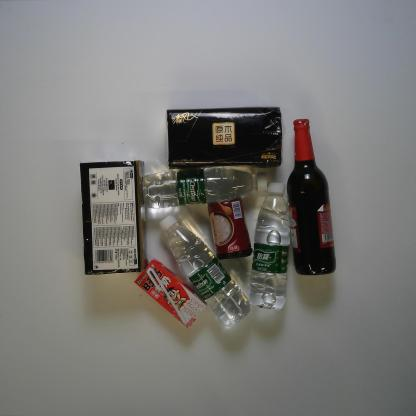Alcohol: (286, 118, 336, 277)
Canned Food: (205, 197, 253, 263)
Drink: (157, 213, 250, 332), (136, 165, 276, 211), (248, 181, 293, 314)
Milk: (132, 256, 207, 330)
Tissue: (77, 158, 149, 276), (165, 105, 286, 169)
